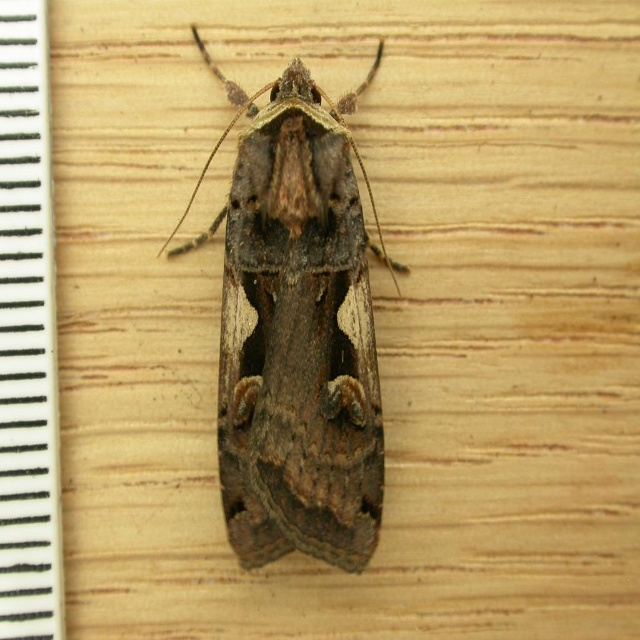Moths and butterflies: (156, 16, 411, 574)
